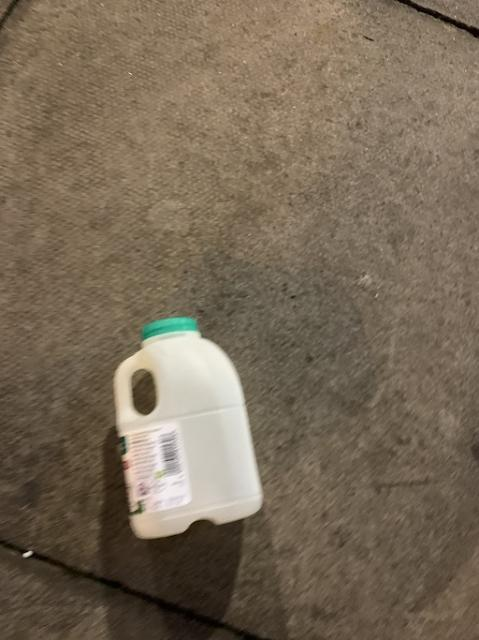plastic: (113, 317, 261, 537), (129, 367, 156, 414)
